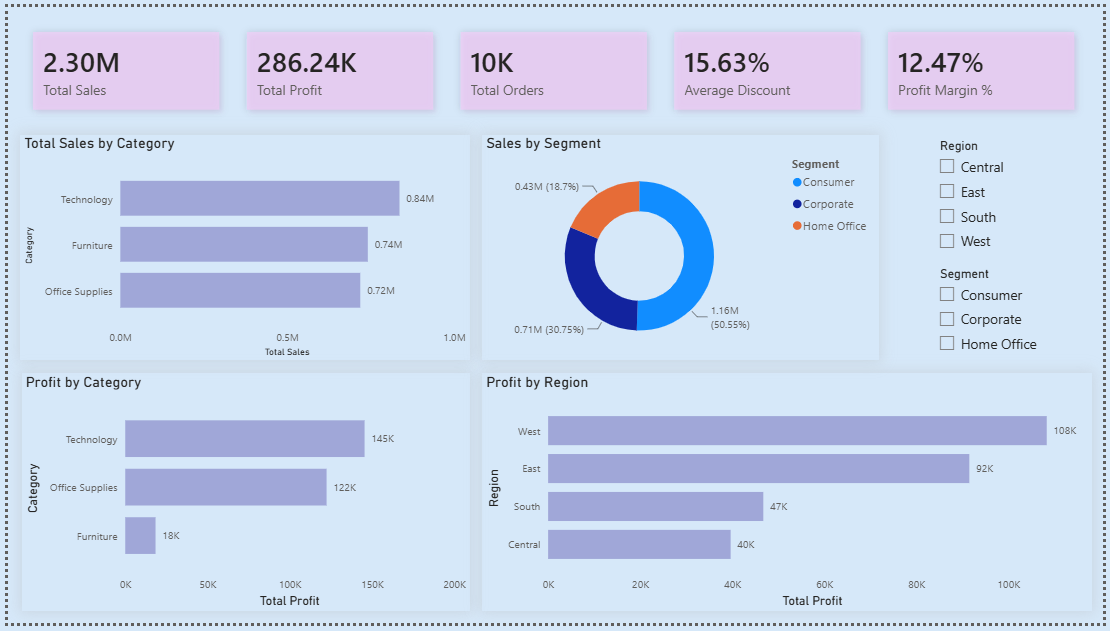

The dashboard page shown, as its layout file describes it:
{"tool":"powerbi","page":{"name":"Executive Summary","canvas":[1280,720],"ordinal":0},"visuals":[{"type":"cardVisual","fields":{"Data":["cleaned_superstore.Total Sales","cleaned_superstore.Total Profit","cleaned_superstore.Total Orders","cleaned_superstore.Average Discount","cleaned_superstore.Profit Margin %"]},"box":[0,0,1280.4,149.5],"z":0},{"type":"clusteredBarChart","fields":{"Category":["cleaned_superstore.Category"],"Y":["cleaned_superstore.Total Sales"]},"box":[14.3,149.5,526.5,264],"z":1000},{"type":"clusteredBarChart","title":" Profit by Category","fields":{"Y":["cleaned_superstore.Total Profit"],"Category":["cleaned_superstore.Category"]},"box":[15.9,427.9,524.9,278.4],"z":2000},{"type":"donutChart","title":"Sales by Segment","fields":{"Category":["cleaned_superstore.Segment"],"Y":["cleaned_superstore.Total Sales"]},"box":[553.5,149.5,464.5,264],"z":3000},{"type":"clusteredBarChart","title":" Profit by Region","fields":{"Category":["cleaned_superstore.Region"],"Y":["cleaned_superstore.Total Profit"]},"box":[553.5,427.9,714.2,278.4],"z":4000},{"type":"actionButton","box":[0,0,100,40],"z":5000},{"type":"slicer","fields":{"Values":["cleaned_superstore.Region"]},"box":[1076.8,149.5,149.5,146.3],"z":6000},{"type":"slicer","fields":{"Values":["cleaned_superstore.Segment"]},"box":[1076.8,299,149.5,119.3],"z":7000}]}

Visuals, with their boxes in screenshot pixels (x1, y1, x2, y2), scaled from the page's 1280x720 canvas onto the 1110x631 screenshot:
cardVisual - cleaned_superstore.Total Sales x cleaned_superstore.Total Profit: 0, 0, 1109, 131
clusteredBarChart - cleaned_superstore.Category x cleaned_superstore.Total Sales: 12, 131, 469, 362
" Profit by Category" clusteredBarChart: 14, 375, 469, 619
"Sales by Segment" donutChart: 480, 131, 883, 362
" Profit by Region" clusteredBarChart: 480, 375, 1099, 619
actionButton: 0, 0, 87, 35
slicer - cleaned_superstore.Region: 934, 131, 1063, 259
slicer - cleaned_superstore.Segment: 934, 262, 1063, 367
